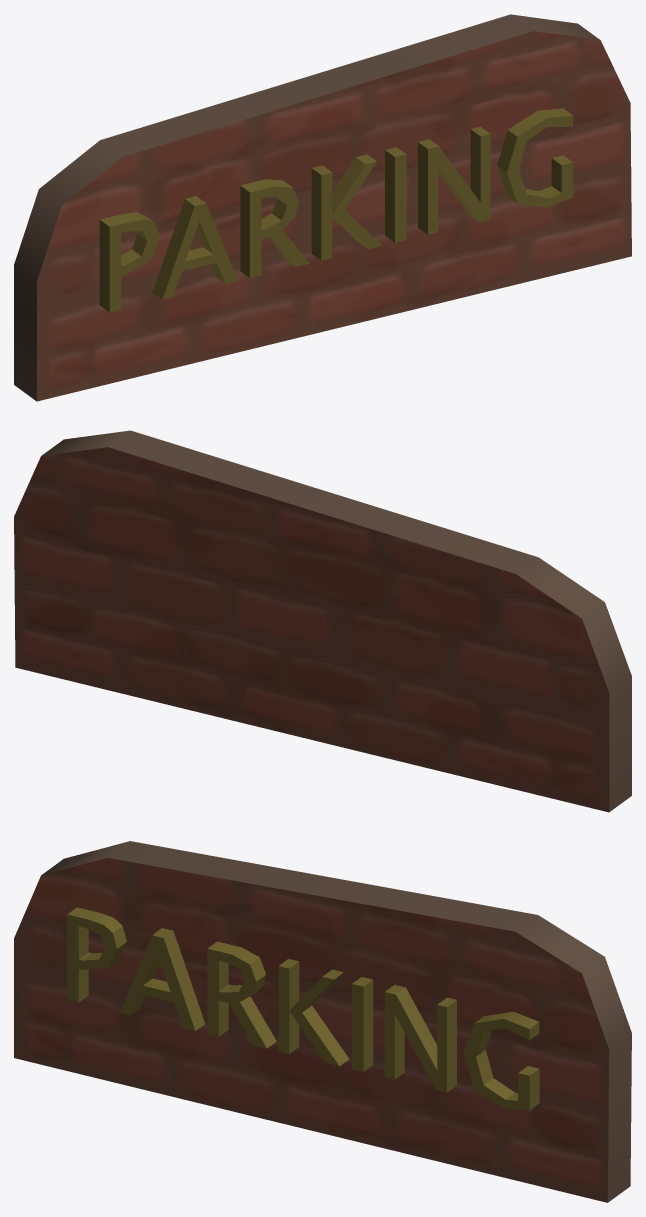
The model's file is Sign.fbx.
The picture shows the model from 3 angles, top to bottom: view 1: azimuth 30°, elevation 25°; view 2: azimuth 150°, elevation 25°; view 3: azimuth 330°, elevation 25°; orthographic projection.
Parts seen in each view (by area): view 1: Sign; view 2: Sign; view 3: Sign.
Boxes of the visible parts, x1,y1,x2,y2 form: Sign: (14,14,631,401); Sign: (14,430,631,812); Sign: (14,841,631,1202).
Bounding box in the file's own units: 387 × 153 × 41.03.
1 material, 1 textured.
